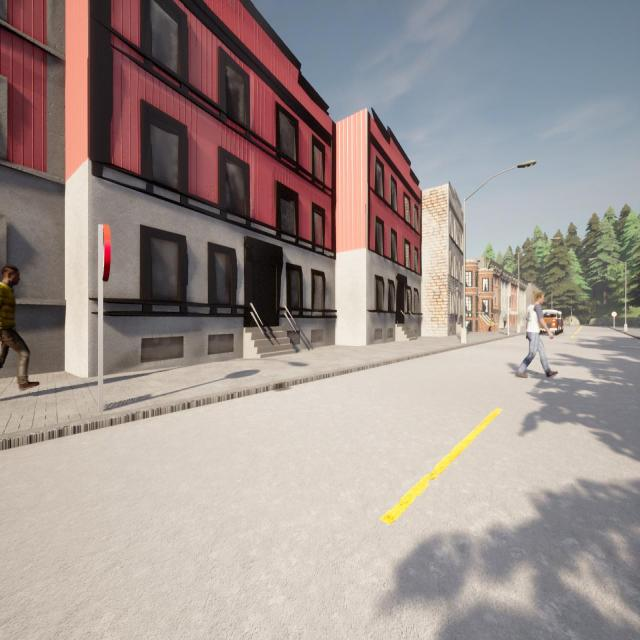Pedestrian: (0, 264, 38, 389), (516, 288, 558, 382), (502, 314, 508, 331), (488, 318, 494, 332)
Traffic_Signs: (97, 225, 112, 282), (611, 311, 617, 317)
Vehicle: (540, 309, 558, 336), (558, 312, 564, 334)
traffic_light: (507, 297, 510, 308)
